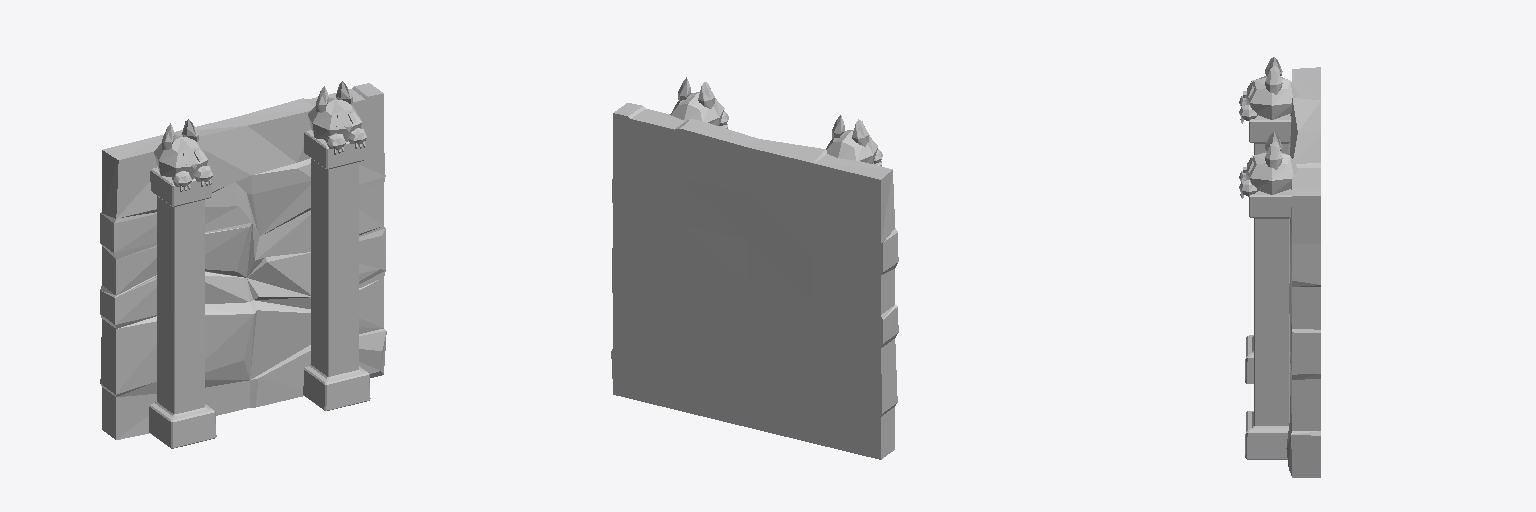
Rendered from pared_3.obj.
3 renders of one model, left to right at view 1: azimuth 30°, elevation 25°; view 2: azimuth 150°, elevation 25°; view 3: azimuth 270°, elevation 25°, orthographic.
Parts seen in each view (by area): view 1: pared_3:initialShadingGroupmuro_3pata_5; view 2: pared_3:initialShadingGroupmuro_3pata_5; view 3: pared_3:initialShadingGroupmuro_3pata_5.
Part boxes in pixels (x1,y1,x2,y2): pared_3:initialShadingGroupmuro_3pata_5: (100,81,386,448); pared_3:initialShadingGroupmuro_3pata_5: (611,77,898,459); pared_3:initialShadingGroupmuro_3pata_5: (1239,57,1320,477).
Bounding box in the file's own units: 4.06 × 4.45 × 1.06.